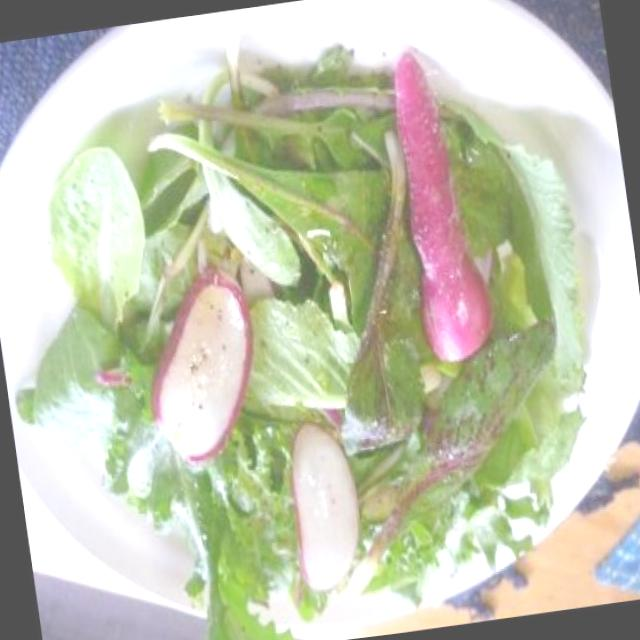Green Salad: (61, 86, 605, 594)
